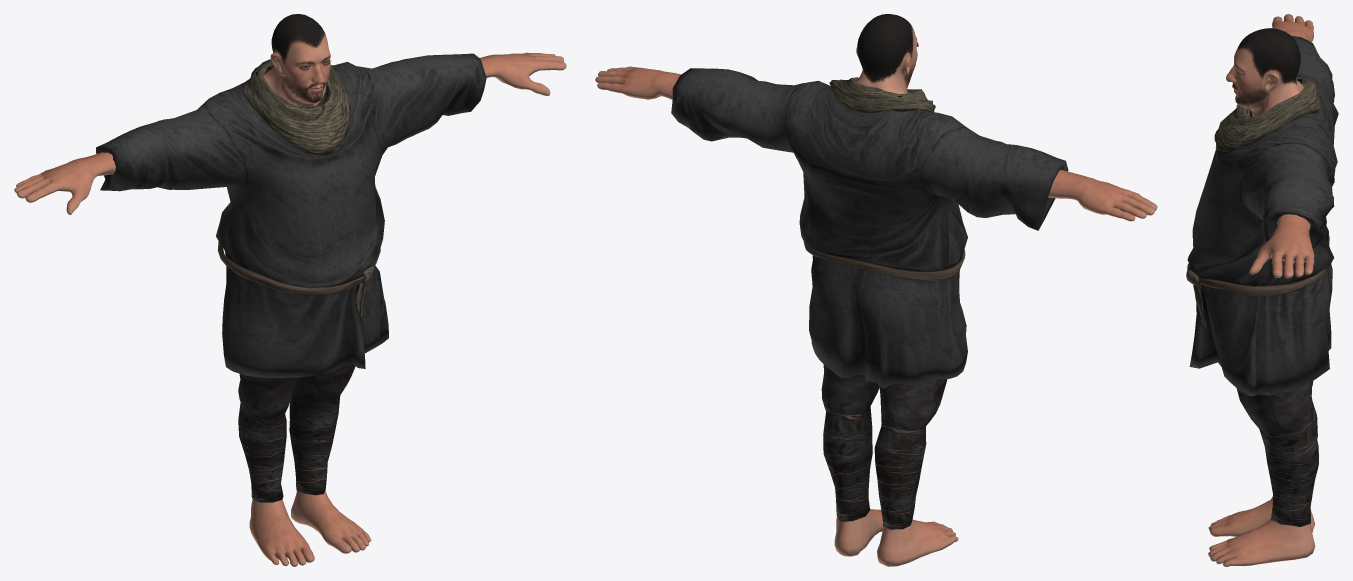
File: male2.obj
The picture shows the model from 3 angles, left to right: view 1: azimuth 30°, elevation 25°; view 2: azimuth 150°, elevation 25°; view 3: azimuth 270°, elevation 25°; orthographic projection. The views are drawn at different scales.
Parts seen in each view (by area): view 1: Tops, Body, Bottoms; view 2: Tops, Bottoms, Body; view 3: Tops, Body, Bottoms.
Part boxes in pixels (x1,y1,x2,y2): Tops: (96, 53, 486, 378); Body: (14, 14, 566, 566); Bottoms: (238, 362, 355, 502); Tops: (671, 68, 1068, 388); Bottoms: (821, 364, 947, 529); Body: (595, 14, 1157, 566); Tops: (1186, 36, 1338, 396); Body: (1208, 14, 1315, 566); Bottoms: (1236, 381, 1318, 526).
Size of the model in its own units: 191 by 175 by 46.94.
Materials: 3 (3 with a texture image).
